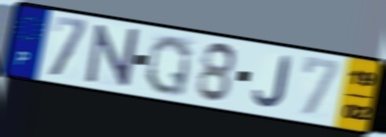7: (299, 54, 344, 120), (49, 13, 89, 82)
8: (193, 41, 239, 104)
J: (252, 54, 293, 110)
N: (84, 23, 141, 89)
Q: (143, 33, 194, 99)
